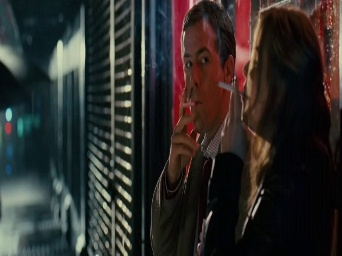smoke: (218, 81, 245, 99), (177, 100, 198, 108)
